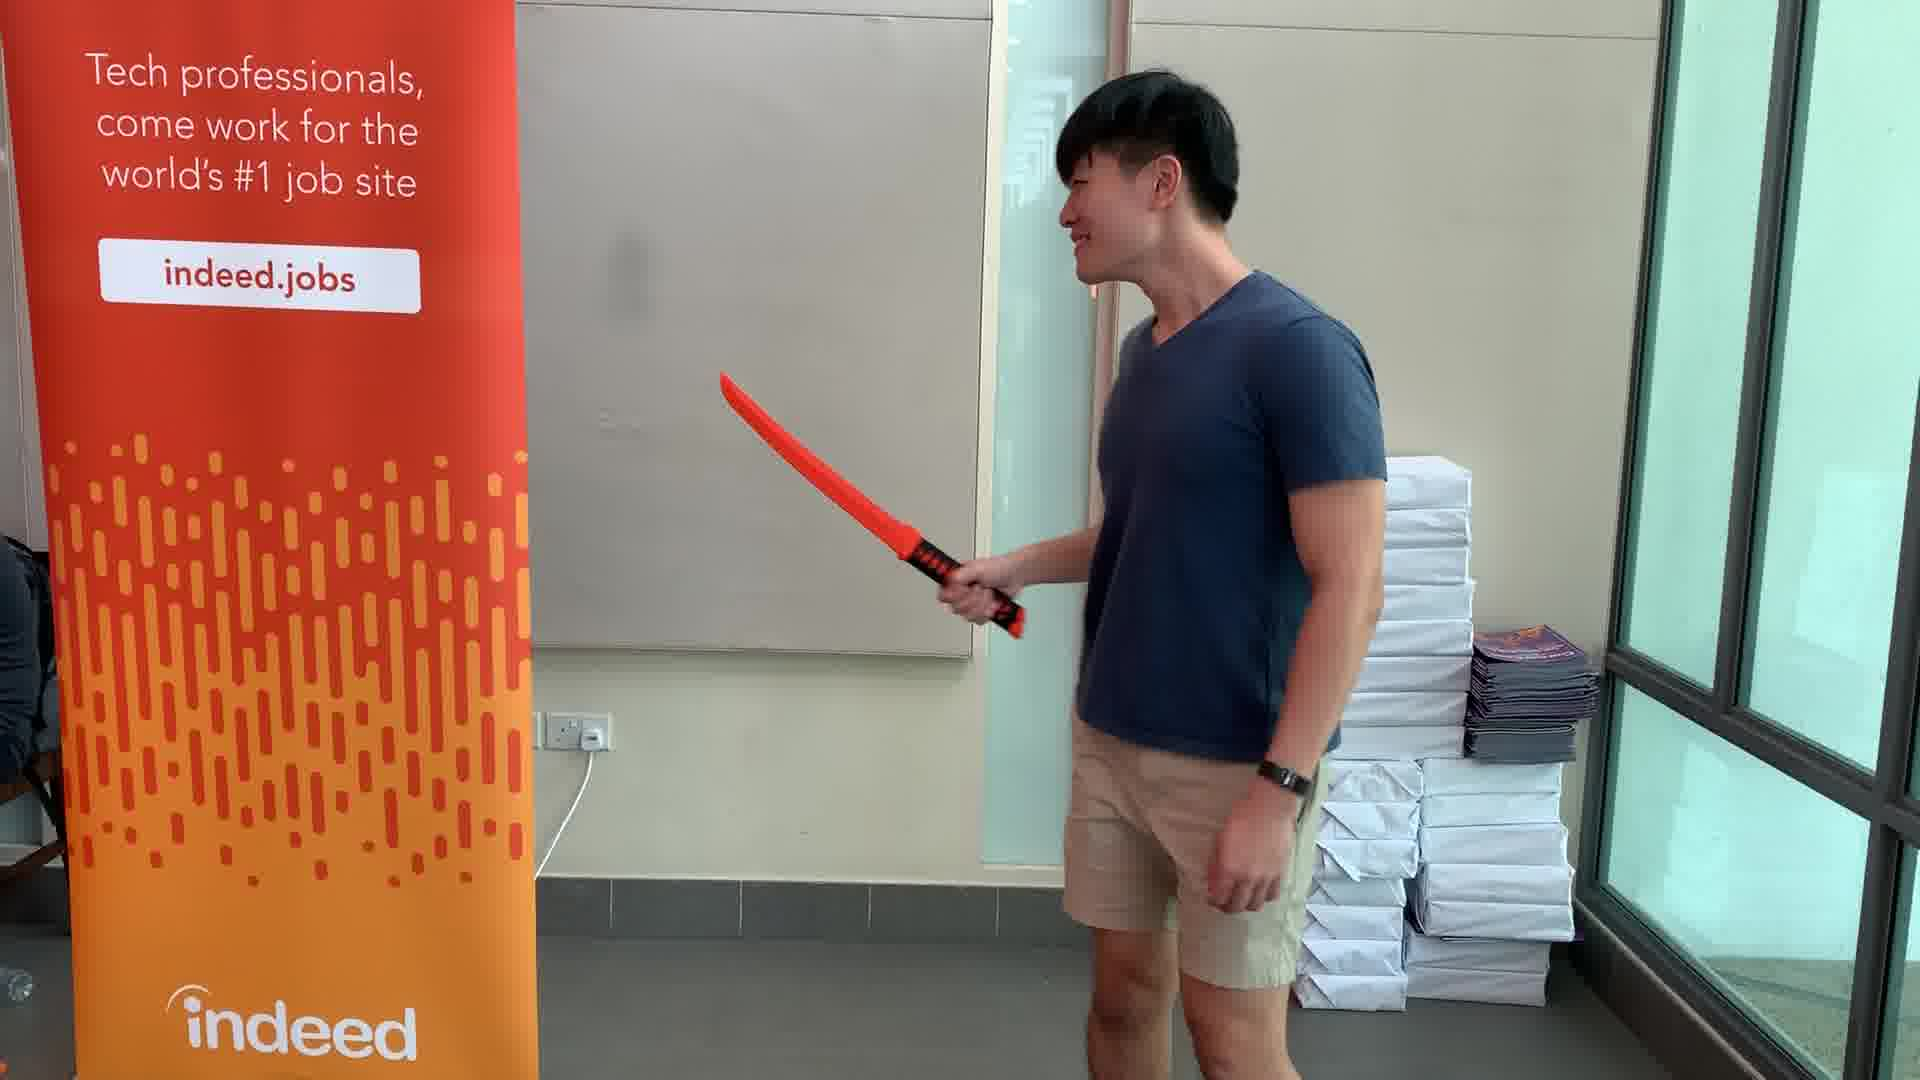knife: (711, 367, 1038, 646)
